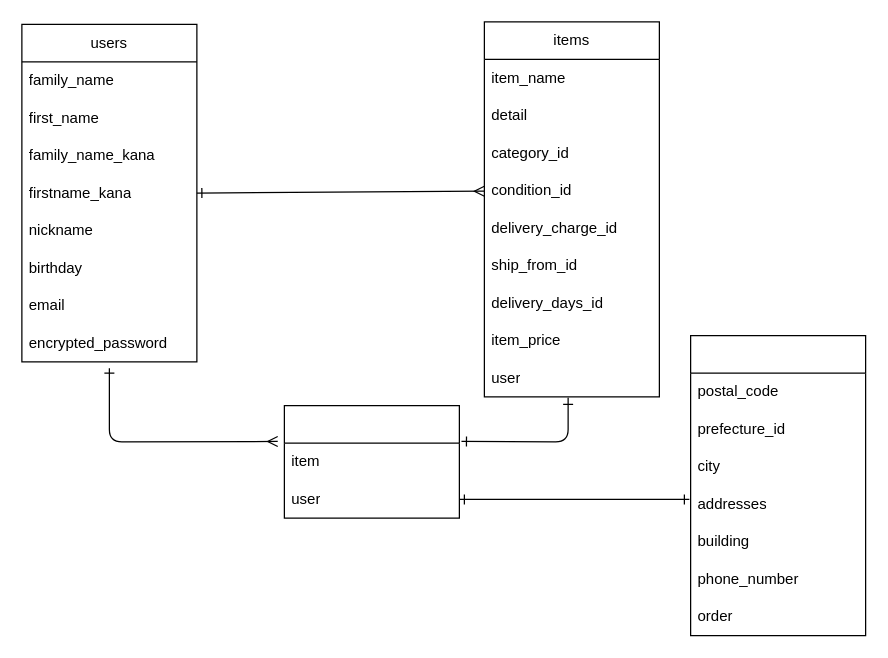
Some shapes in this 888 by 658 pixel diagram are drawn without their labels. Here are the shapes that lost their labels. From the top down, the box of each, then its label:
(283, 404, 459, 518): orders
(689, 334, 866, 636): delivery_addresses
